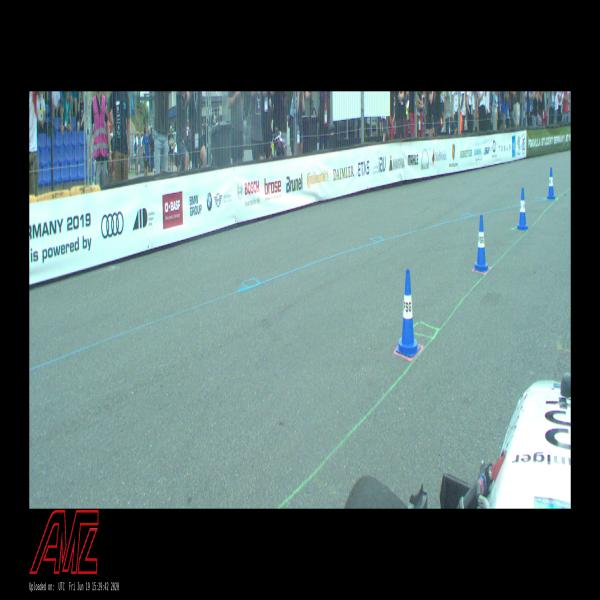blue_cone: (395, 269, 421, 358), (474, 214, 489, 272), (517, 188, 528, 230), (546, 167, 557, 200)
